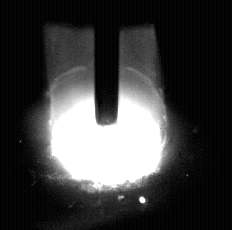arame: (95, 0, 120, 127)
poca: (52, 0, 164, 230)
